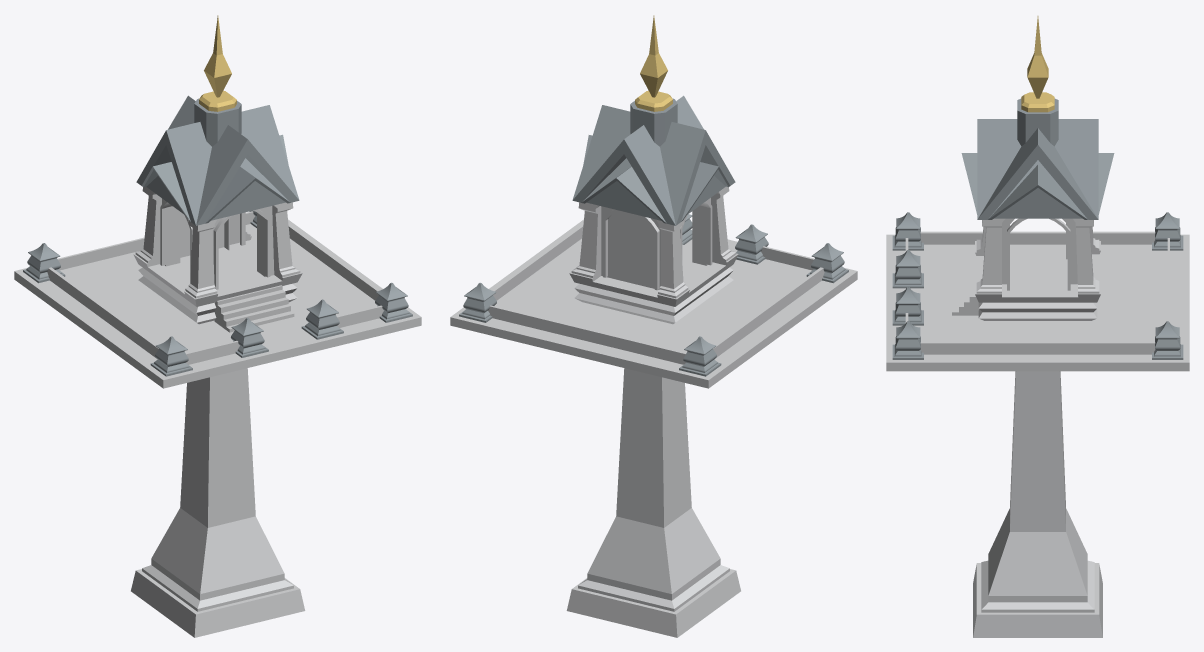
Rendered from modern01.glb.
3 renders of one model, left to right at view 1: azimuth 30°, elevation 25°; view 2: azimuth 150°, elevation 25°; view 3: azimuth 270°, elevation 25°, orthographic.
Parts seen in each view (by area): view 1: Part13[134], Part12[131], Part8[58], Part10[99], Part24[280], Part25[285], Part9[62], Part15[160], Part15[260], Part15[180], Part15[240], Part15[200]; view 2: Part13[134], Part12[131], Part10[99], Part8[58], Part24[280], Part9[62], Part15[200], Part15[220], Part15[240], Part15[160]; view 3: Part12[131], Part13[134], Part8[58], Part10[99], Part24[280], Part9[62], Part25[285], Part15[240], Part15[180], Part15[220], Part15[260], Part15[200] (+1 smaller).
Boxes of the visible parts, x1,y1,x2,y2 form: Part13[134]: [131, 368, 305, 637]; Part12[131]: [14, 219, 421, 388]; Part8[58]: [136, 95, 299, 225]; Part10[99]: [133, 187, 302, 324]; Part24[280]: [47, 211, 383, 364]; Part25[285]: [214, 285, 294, 332]; Part9[62]: [199, 15, 236, 111]; Part15[160]: [150, 336, 192, 376]; Part15[260]: [301, 299, 343, 339]; Part15[180]: [375, 282, 412, 322]; Part15[240]: [231, 318, 268, 357]; Part15[200]: [23, 243, 65, 283]; Part13[134]: [566, 368, 740, 637]; Part12[131]: [450, 219, 857, 388]; Part10[99]: [569, 186, 738, 324]; Part8[58]: [572, 95, 735, 225]; Part24[280]: [488, 224, 824, 364]; Part9[62]: [635, 15, 672, 111]; Part15[200]: [679, 336, 721, 376]; Part15[220]: [459, 282, 496, 322]; Part15[240]: [735, 224, 768, 264]; Part15[160]: [806, 243, 848, 283]; Part12[131]: [886, 234, 1189, 371]; Part13[134]: [973, 371, 1102, 637]; Part8[58]: [961, 98, 1114, 219]; Part10[99]: [975, 218, 1100, 320]; Part24[280]: [905, 231, 1169, 354]; Part9[62]: [1021, 16, 1054, 112]; Part25[285]: [952, 264, 979, 315]; Part15[240]: [892, 250, 923, 288]; Part15[180]: [892, 321, 923, 359]; Part15[220]: [1152, 321, 1183, 359]; Part15[260]: [892, 287, 923, 325]; Part15[200]: [1152, 212, 1183, 250].
Size of the model in its own units: 0.00999 by 0.0217 by 0.00999.
